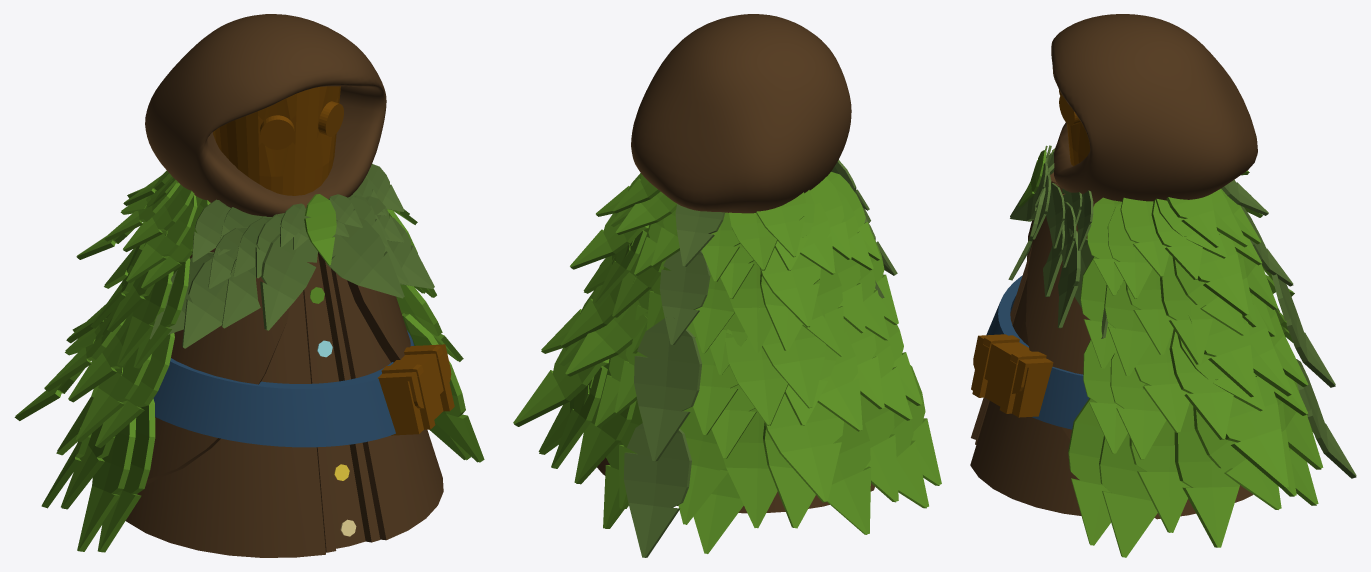
File: main_characterSemiFinal.fbx
3 views of the same model, side by side, from view 1: azimuth 30°, elevation 25°; view 2: azimuth 150°, elevation 25°; view 3: azimuth 270°, elevation 25° (orthographic). The views are drawn at different scales.
Visible parts, largest first — view 1: Cylinder, Cube.027, Roundcube, Cube.004, Cylinder.007, Face, Cube, Cube.001; view 2: Cube.027, Roundcube, Cube.003, Cube.004, Cylinder; view 3: Cube.027, Roundcube, Cylinder, Cube.004, Cube, Cube.003, Cylinder.007, Face, Cube.001.
Part boxes in pixels (left/top/right/bottom): Cylinder: left=125, top=248, right=443, bottom=557; Cube.027: left=14, top=170, right=484, bottom=552; Roundcube: left=145, top=14, right=386, bottom=216; Cube.004: left=149, top=164, right=434, bottom=348; Cylinder.007: left=153, top=330, right=414, bottom=447; Face: left=213, top=86, right=343, bottom=195; Cube: left=377, top=344, right=454, bottom=435; Cube.001: left=304, top=194, right=336, bottom=265; Cube.027: left=513, top=172, right=941, bottom=553; Roundcube: left=631, top=14, right=851, bottom=213; Cube.003: left=623, top=203, right=724, bottom=557; Cube.004: left=831, top=159, right=897, bottom=298; Cylinder: left=597, top=337, right=874, bottom=513; Cube.027: left=1068, top=170, right=1323, bottom=557; Roundcube: left=1051, top=14, right=1257, bottom=206; Cylinder: left=970, top=172, right=1253, bottom=519; Cube.004: left=1008, top=145, right=1107, bottom=338; Cube: left=971, top=334, right=1053, bottom=417; Cube.003: left=1221, top=179, right=1356, bottom=478; Cylinder.007: left=986, top=275, right=1088, bottom=429; Face: left=1059, top=90, right=1089, bottom=165; Cube.001: left=1018, top=150, right=1046, bottom=206.
Bounding box in the file's own units: 297 × 356 × 273.
